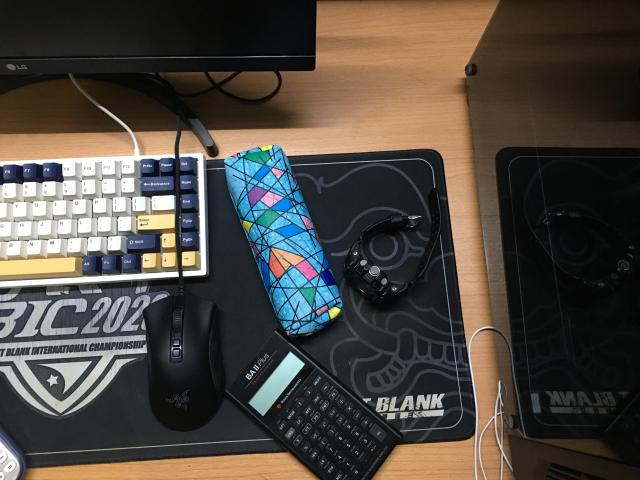Mouse: (142, 120, 224, 431)
Watch: (344, 189, 441, 304)
wire: (468, 326, 512, 480)
